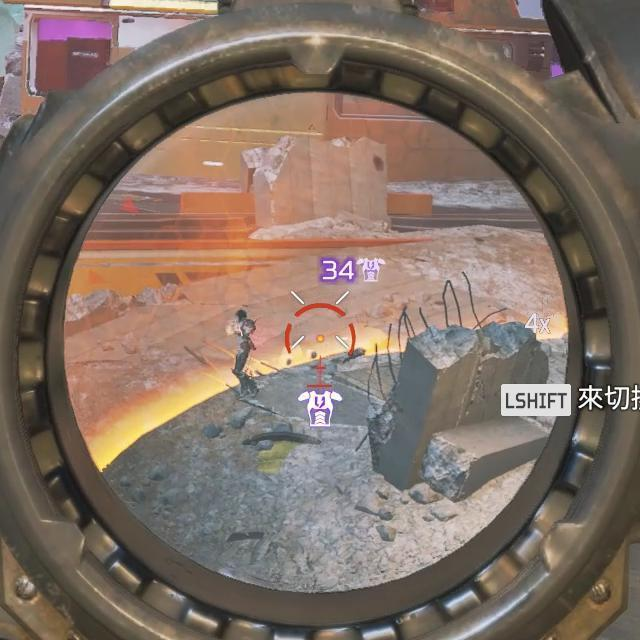avatar: (230, 309, 259, 400)
